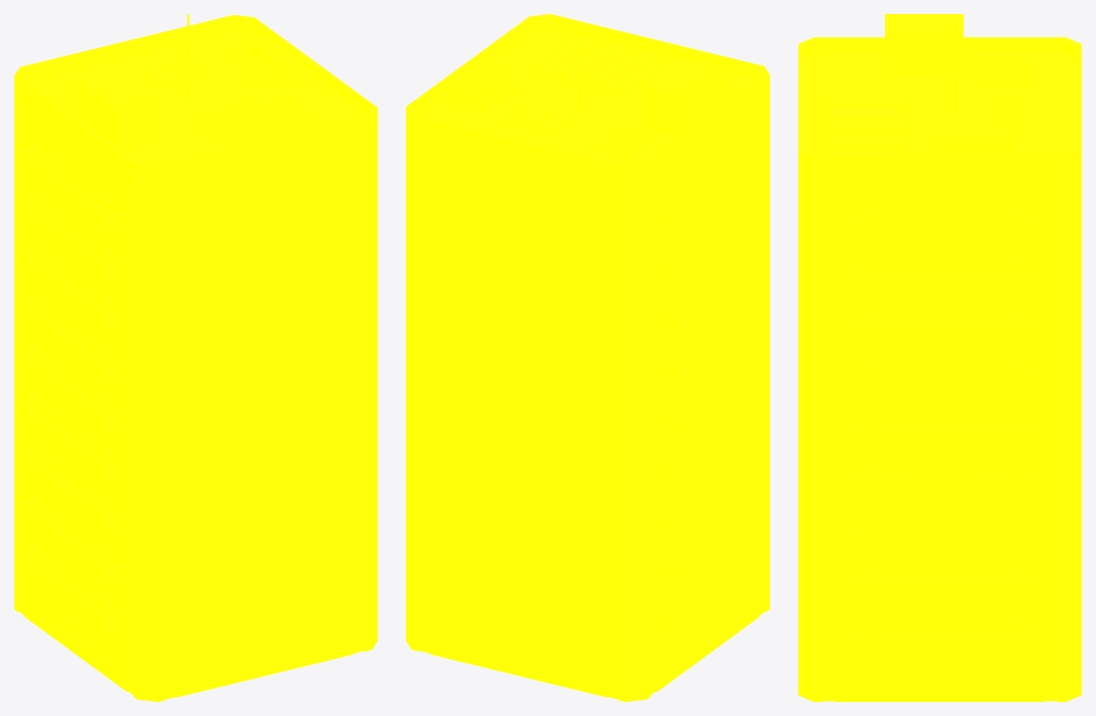
Rendered from building-office-balcony.glb.
3 renders of one model, left to right at view 1: azimuth 30°, elevation 25°; view 2: azimuth 150°, elevation 25°; view 3: azimuth 270°, elevation 25°, orthographic. The views are drawn at different scales.
Parts seen in each view (by area): view 1: building-office-balcony; view 2: building-office-balcony; view 3: building-office-balcony.
Part boxes in pixels (x1,y1,x2,y2): building-office-balcony: [14, 14, 377, 701]; building-office-balcony: [406, 14, 769, 701]; building-office-balcony: [798, 14, 1081, 701].
Size of the model in its own units: 20 by 43.33 by 18.
Materials: 1 (1 with a texture image).
